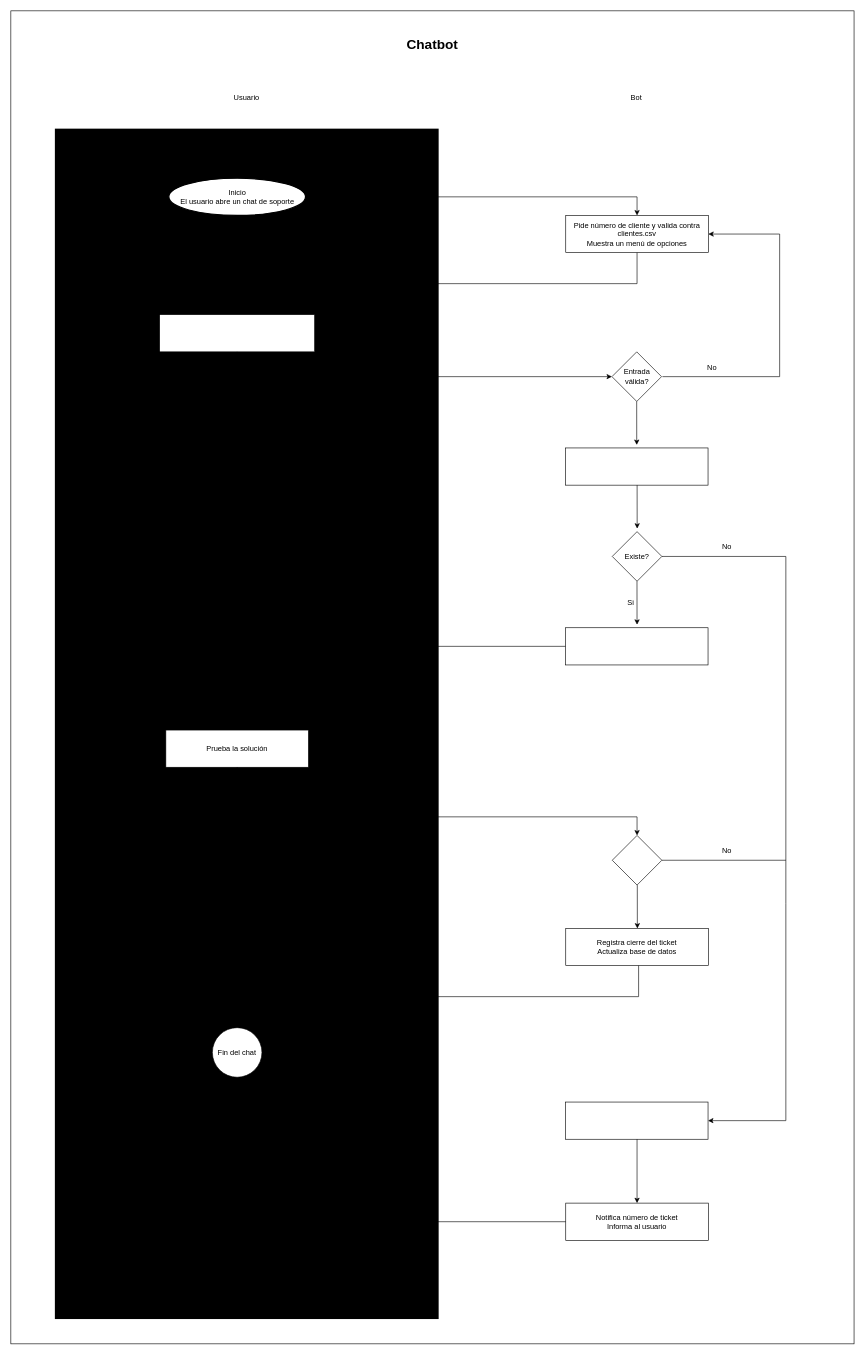
The diagram is 865 pixels wide and 1355 high, and some of its shapes have lost their labels. The shapes that lost their labels are listed below. From the top down, each one's centre as x and y in pixels, then its label:
pixel 237 333: Selecciona categoría
pixel 636 466: Consulta base de datos (Busca solución conocida)
pixel 636 646: Envía solución sugerida Pasos a seguir
pixel 637 860: Problema resuelto?
pixel 636 1120: Genera ticket de derivación Escala a soporte nivel 2
